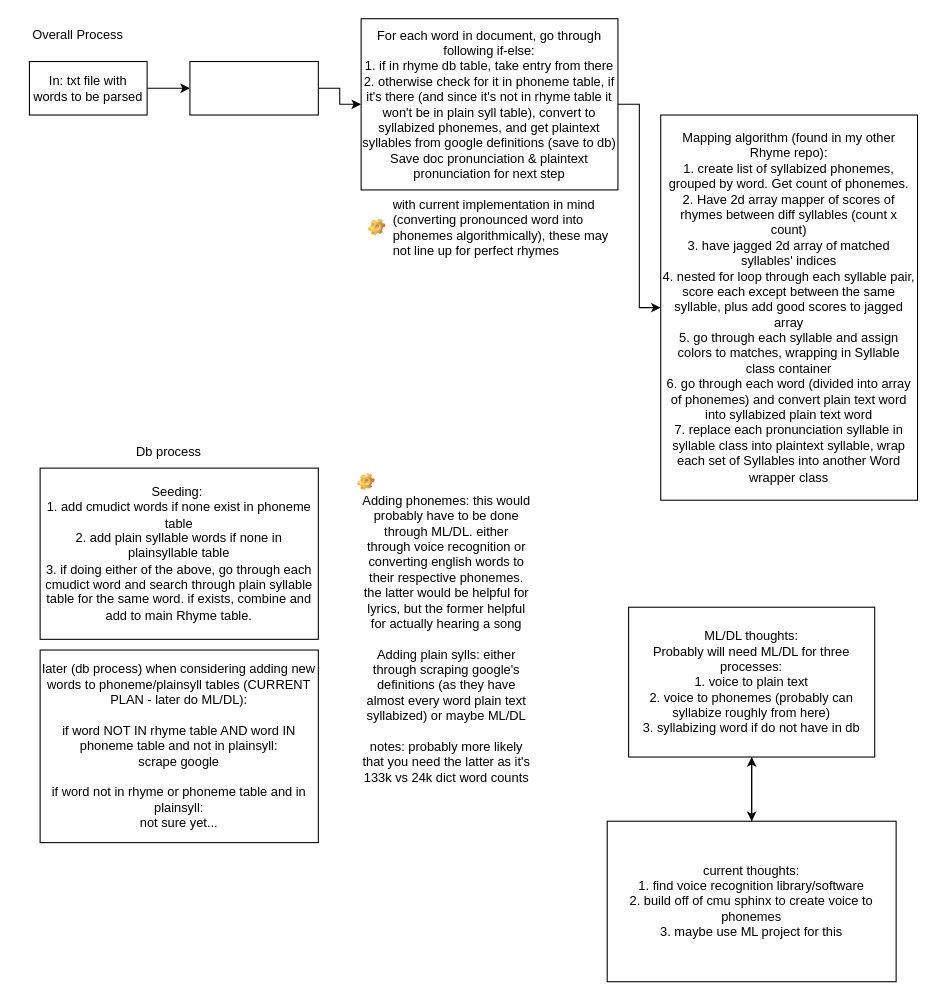
Image size: 936x1000. Some labels were removed from this diagram. The box of each missing label's shape, as (x1, y1, x2, y2) in pixels:
Convert to word list: (189, 60, 318, 115)
When/how to add words:: (350, 468, 542, 495)
